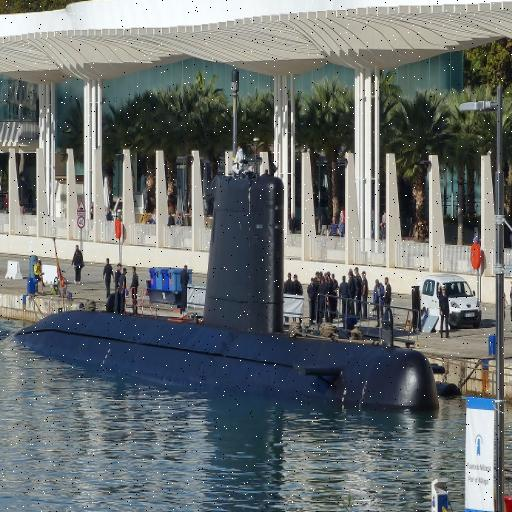submarine: (1, 173, 442, 415)
